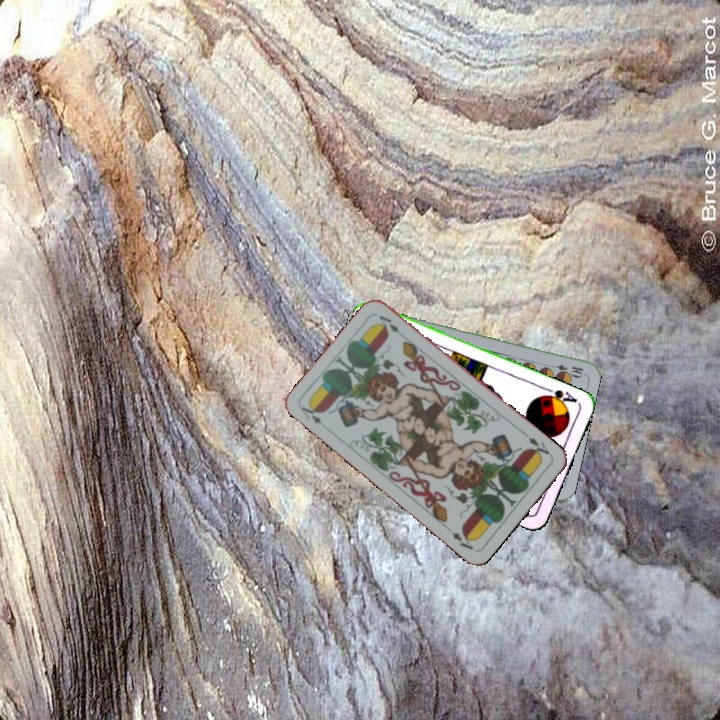E10: (545, 360, 585, 378)
EA: (520, 429, 552, 461), (297, 399, 324, 427)
SA: (539, 384, 580, 409)
